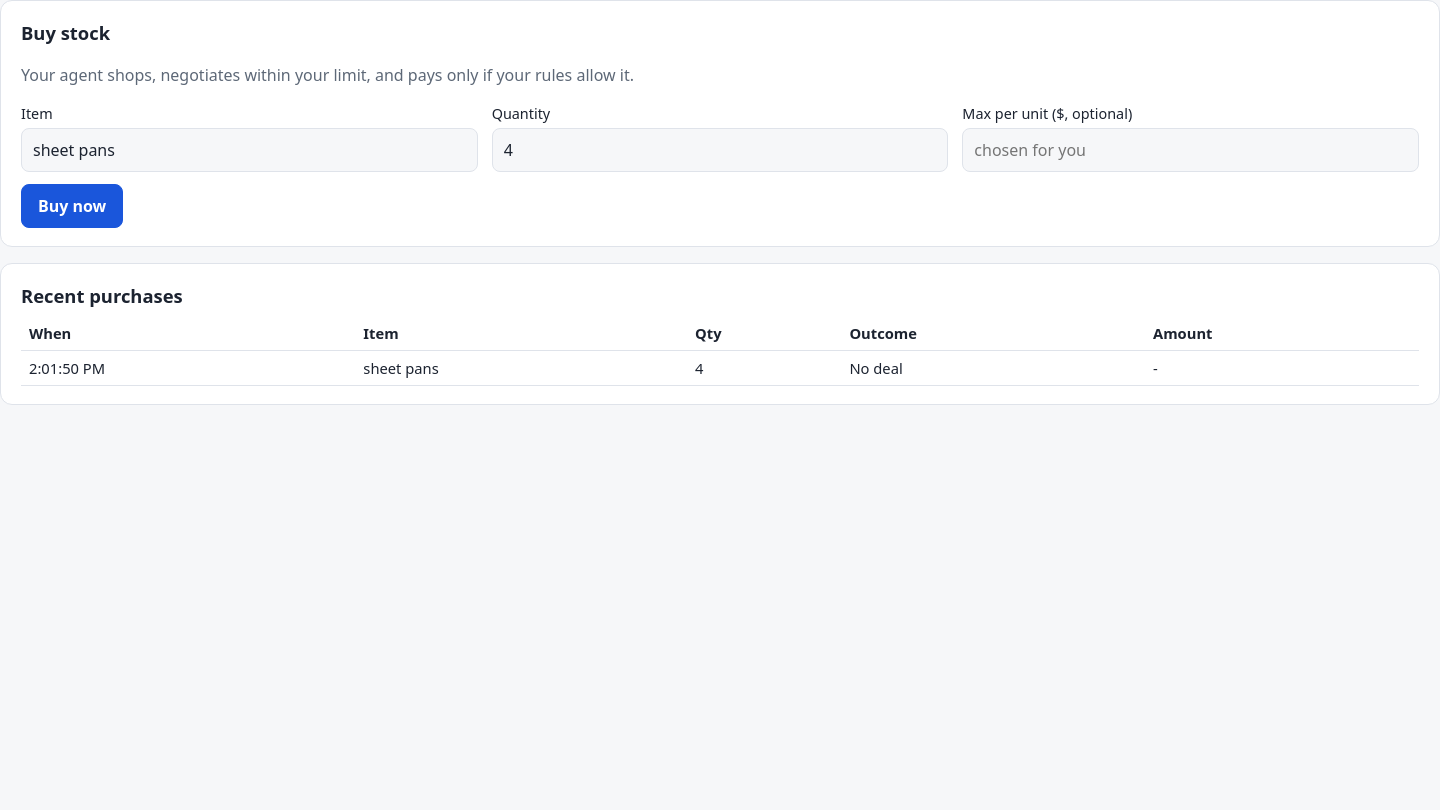
Test: PurchaseScreen › loads history and lets the owner reopen an earlier run
Expected: the text "No deal" is shown, x1=841 y1=350 x2=1145 y2=386
Expected: the text "No deal. The agent could not agree" is not shown
Click the text "sheet pans" at (521, 368), box x1=355 y1=350 x2=687 y2=386
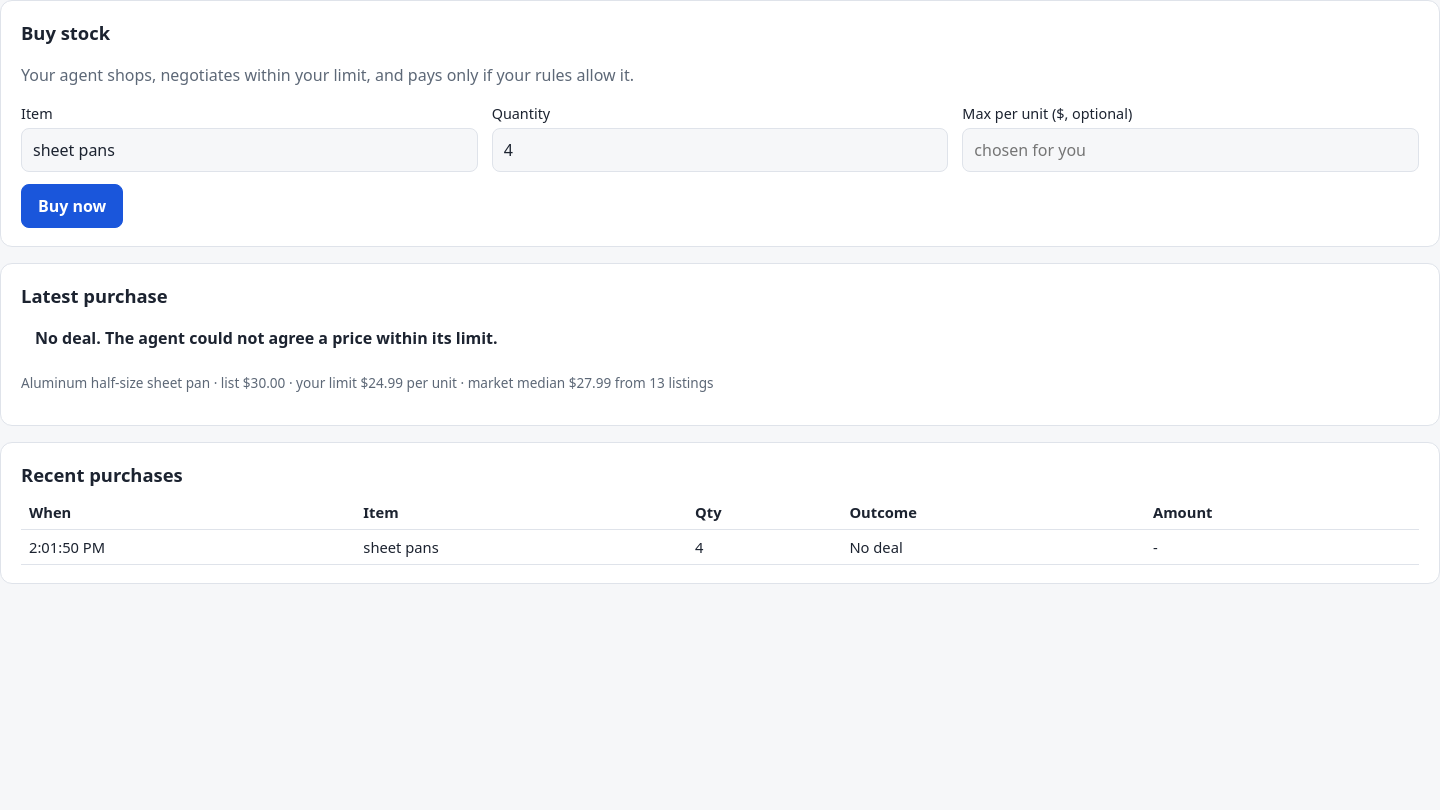
Now the text "No deal. The agent could not agree a price within its limit." is shown, box x1=35 y1=327 x2=498 y2=349
